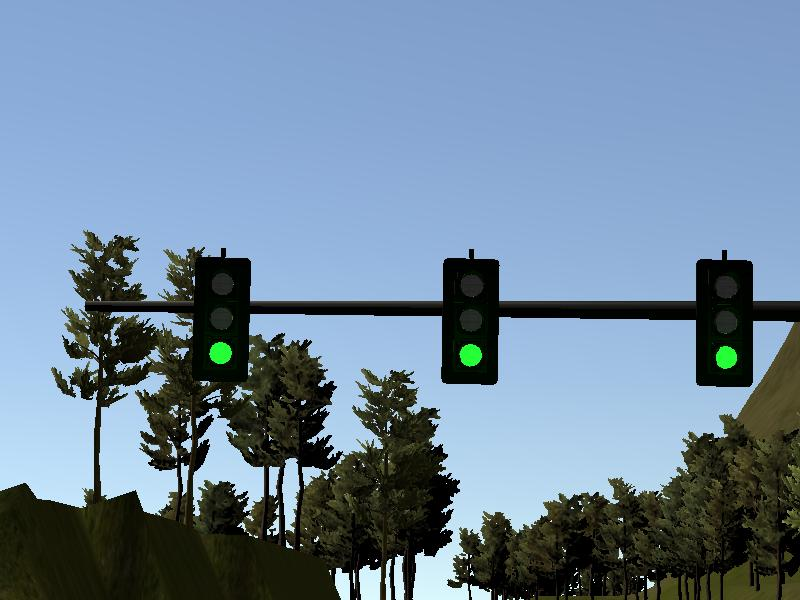not_red: (694, 257, 754, 387), (443, 257, 499, 384), (194, 256, 248, 379)
